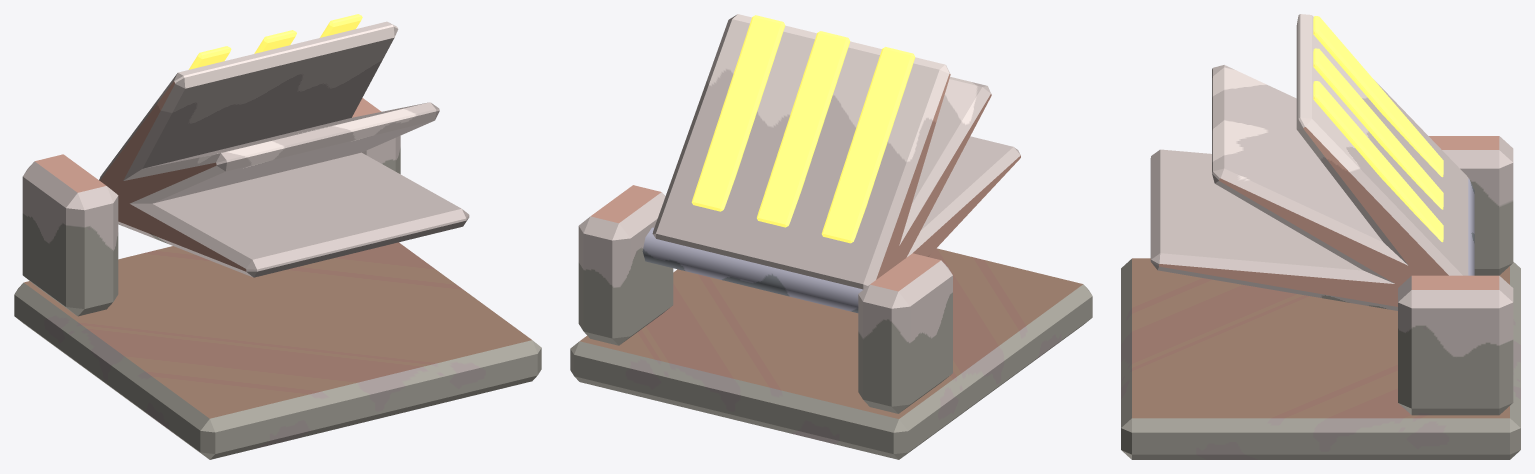
Rendered from R4X_RampDeployer_LOD1.glb.
The picture shows the model from 3 angles, left to right: view 1: azimuth 30°, elevation 25°; view 2: azimuth 150°, elevation 25°; view 3: azimuth 270°, elevation 25°; orthographic projection. The views are drawn at different scales.
Parts seen in each view (by area): view 1: R4X_RampDeployer_LOD1; view 2: R4X_RampDeployer_LOD1; view 3: R4X_RampDeployer_LOD1.
Part boxes in pixels (box(x1,y1,x2,y2)): R4X_RampDeployer_LOD1: box(14, 14, 541, 459); R4X_RampDeployer_LOD1: box(570, 14, 1092, 459); R4X_RampDeployer_LOD1: box(1121, 14, 1520, 459).
Bounding box in the file's own units: 0.52 × 0.4662 × 0.52.
Materials: 4 (3 with a texture image).
